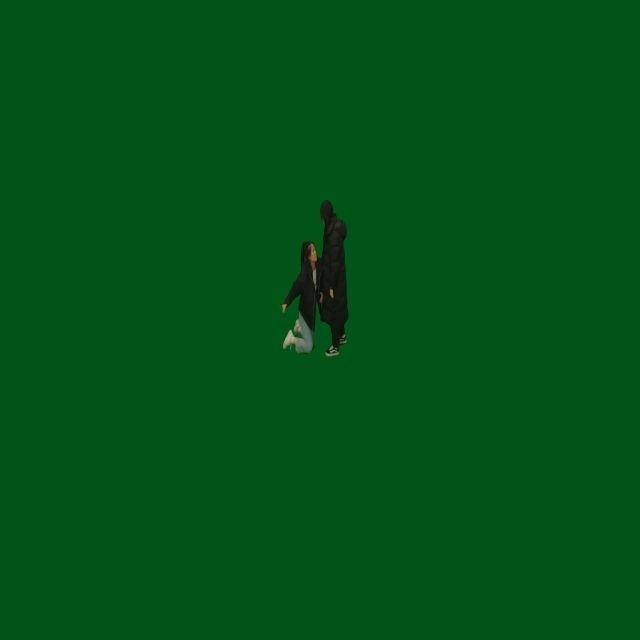fight: (277, 197, 352, 357)
